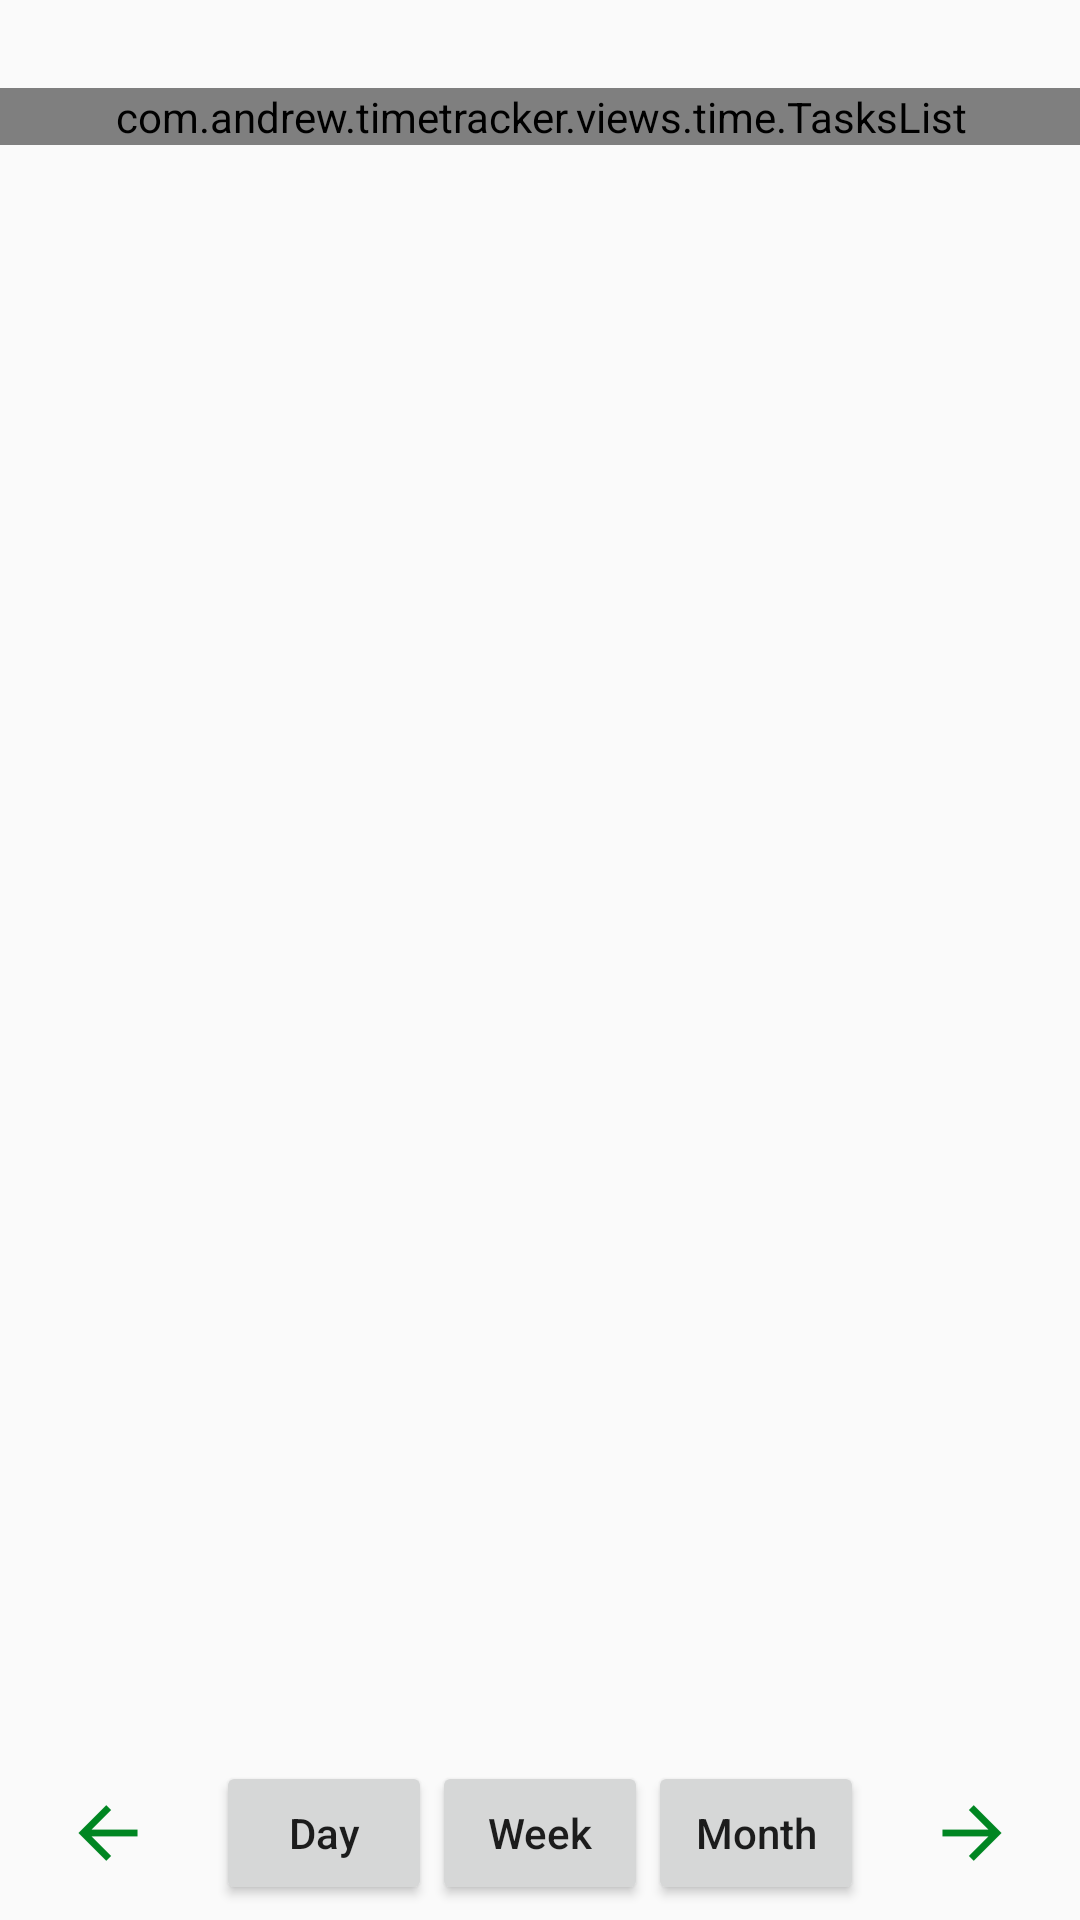

Named icons in this screenshot (1080x1920) and their bounding boxes, [left=x1, top=y1, right=x2, bottom=y2]:
next: [left=942, top=1805, right=1002, bottom=1861]
prev: [left=78, top=1805, right=138, bottom=1861]
